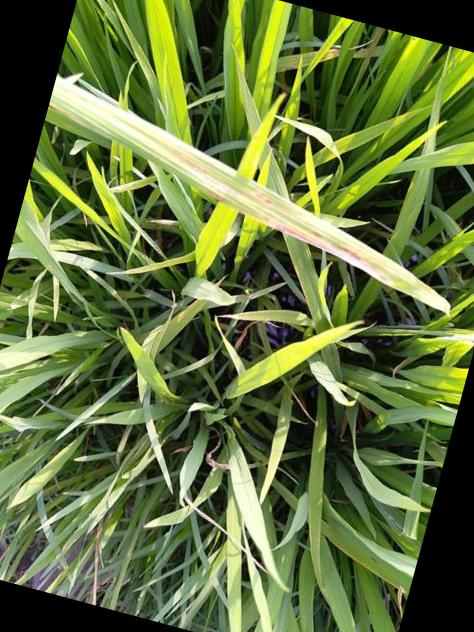Leaf Streak: (44, 74, 449, 313)
